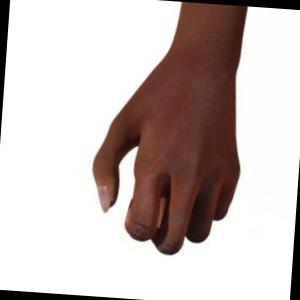rock: (75, 1, 229, 254)
